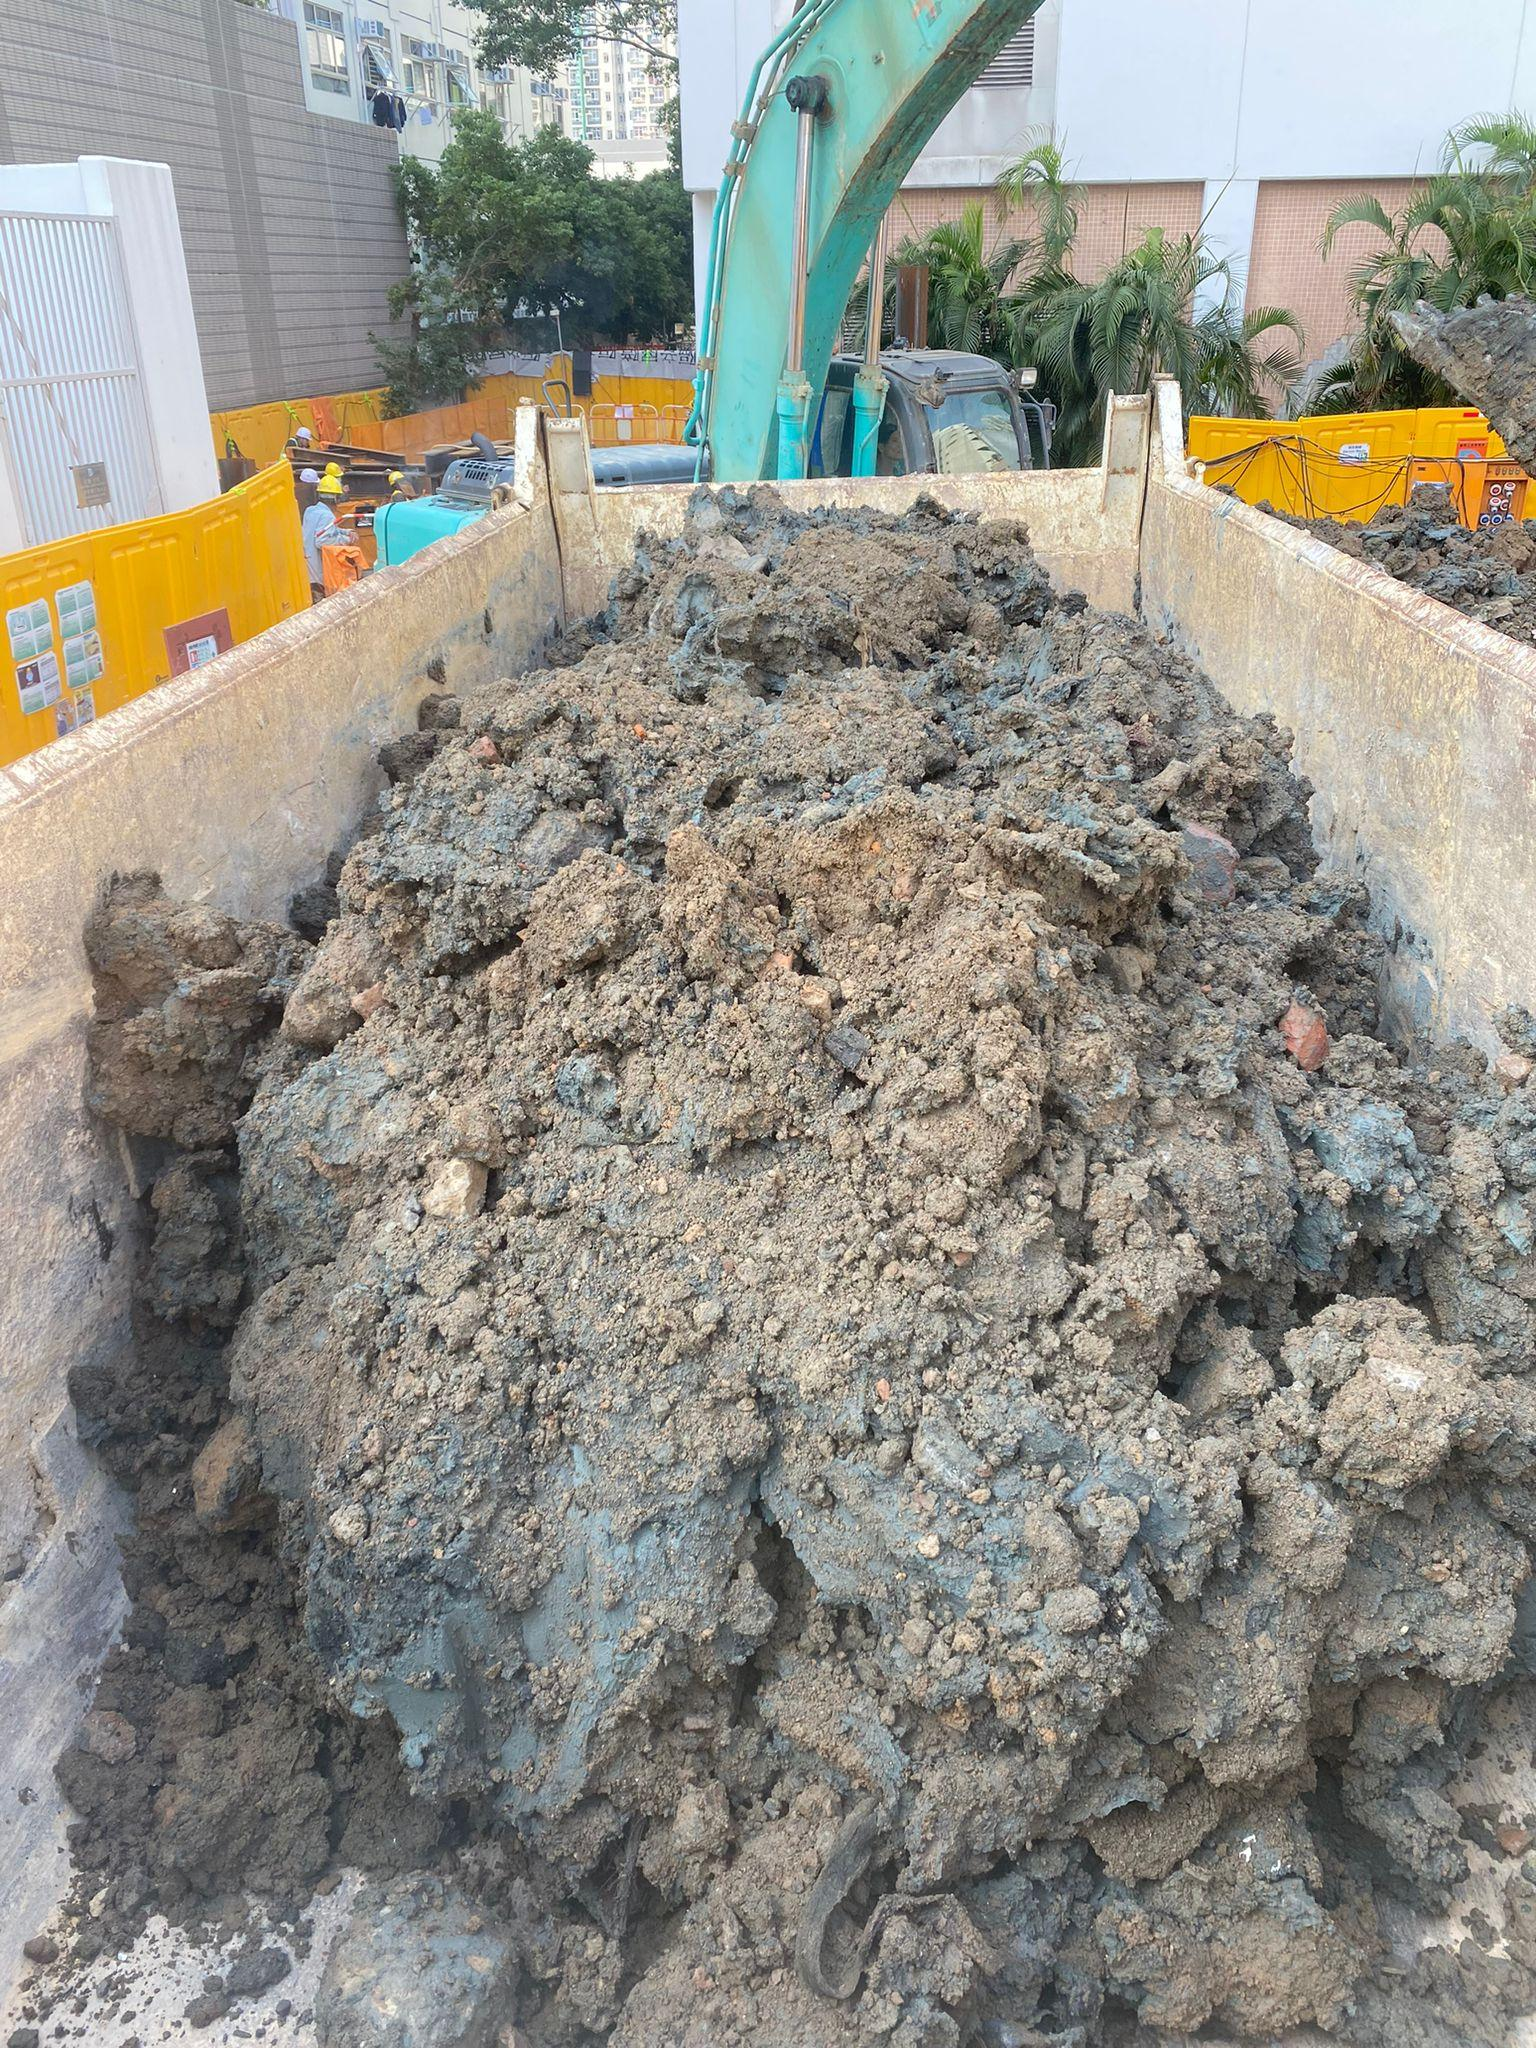wet: (207, 516, 1486, 1987)
